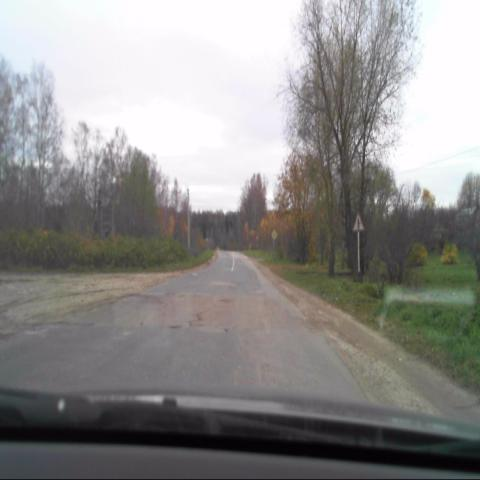2_3_2: (351, 211, 365, 232)
